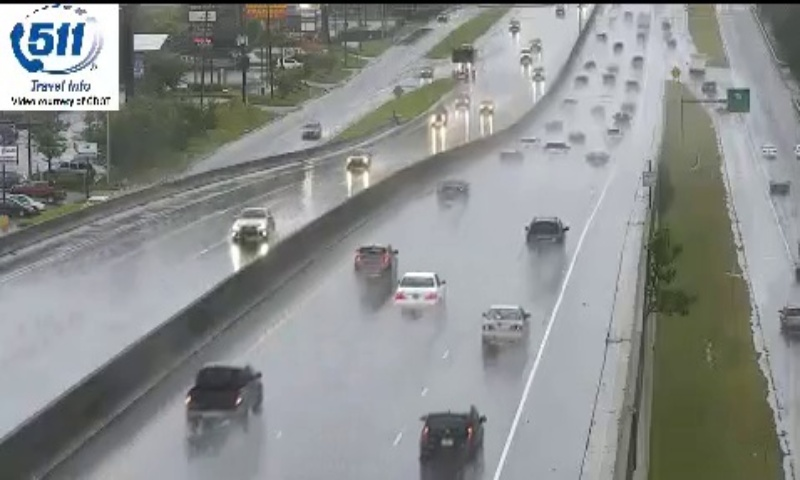car: (185, 363, 264, 420), (420, 407, 483, 459), (394, 272, 443, 310), (483, 306, 528, 344), (355, 243, 396, 278), (527, 217, 566, 251)
